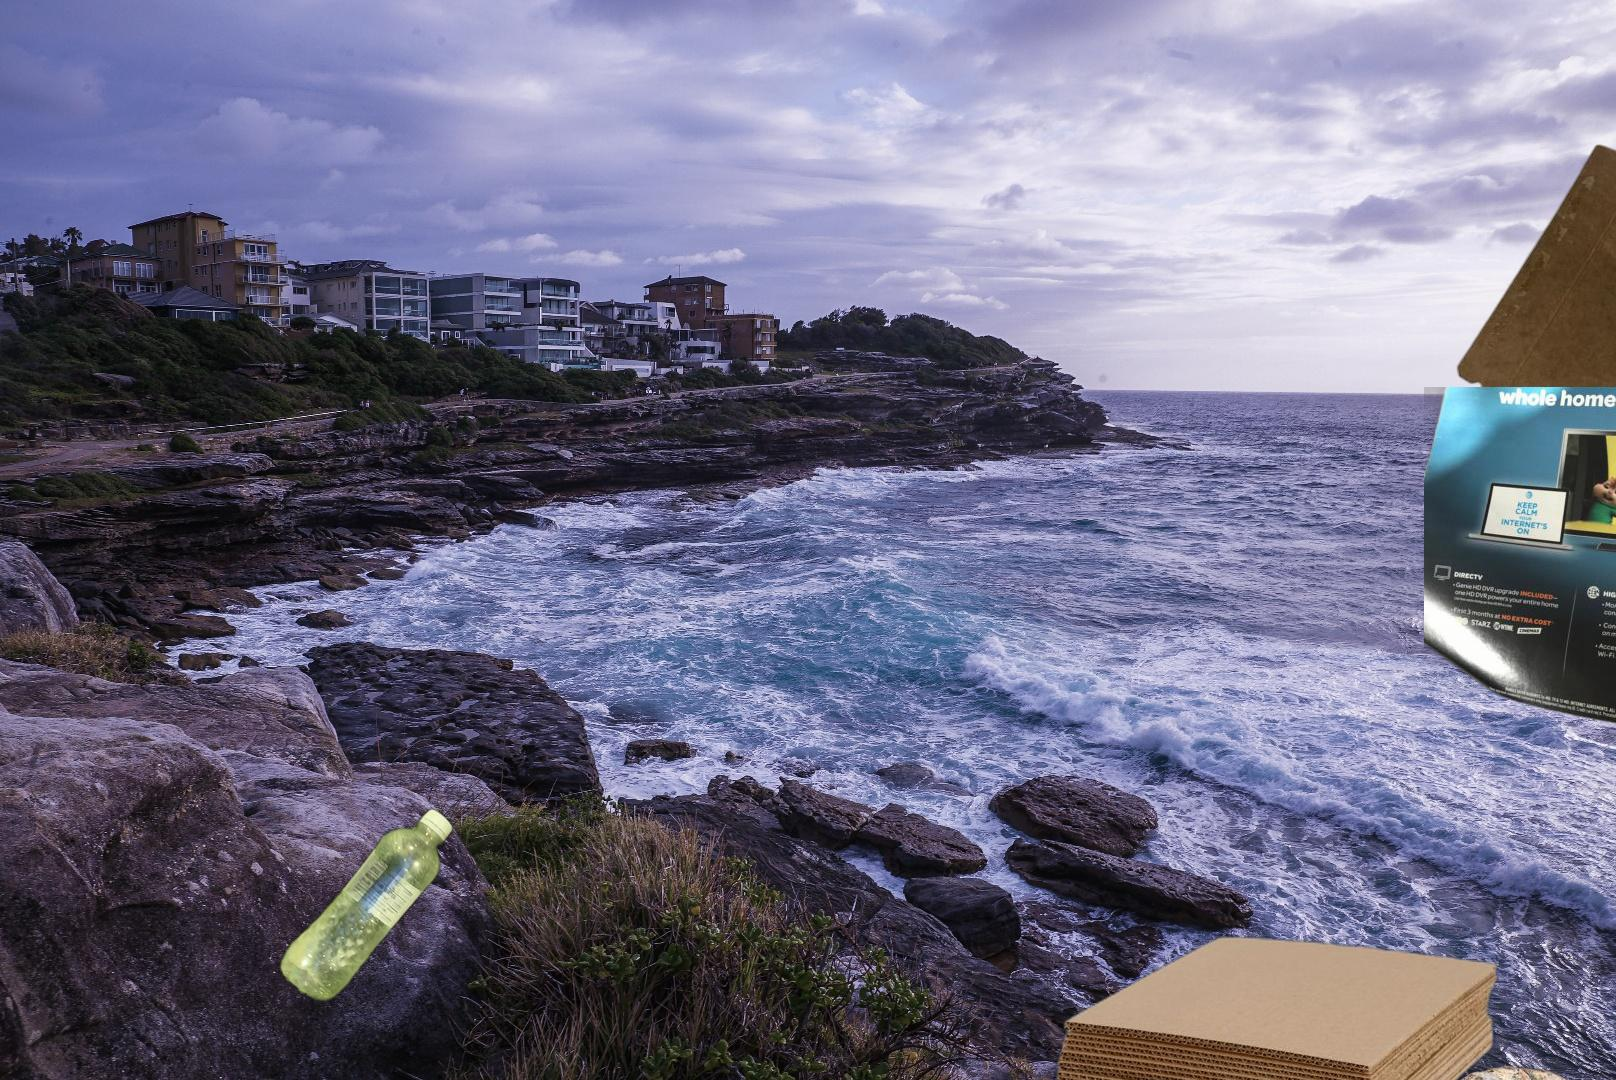biological: (1382, 1063, 1616, 1080)
paper: (1424, 387, 1616, 750), (1452, 141, 1616, 466)
penholder: (19, 1052, 709, 1080)
plastic-bottles: (276, 802, 457, 1008)
shoes: (1535, 368, 1616, 536)
trashbox-cardboard: (1048, 931, 1503, 1080)
